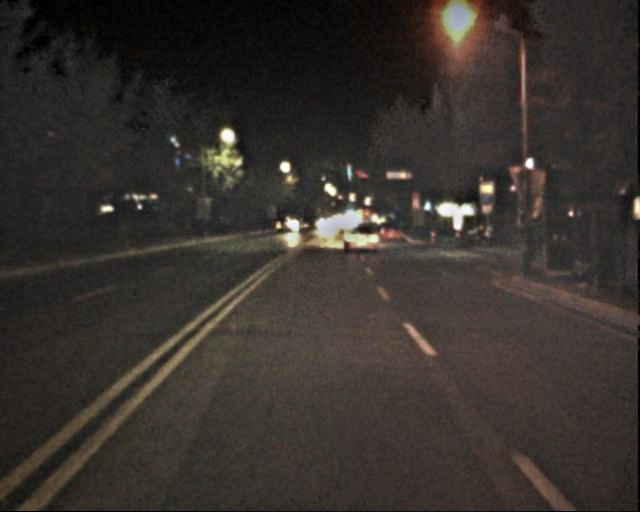person: (513, 226, 538, 288)
